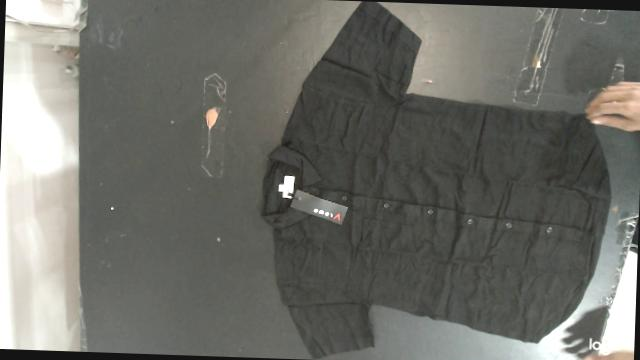new-garment: (262, 1, 610, 357)
